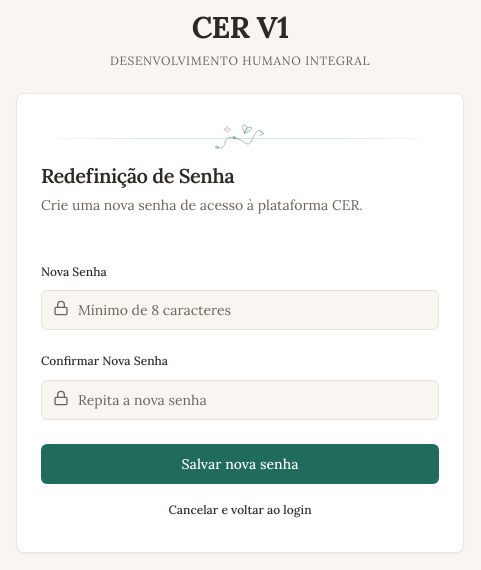
ResetPassword Page › 4. Sucesso: envia token em memória, confirma reset sem autenticar automaticamente e orienta voltar ao login
In the password field labelled "Nova Senha": x=240, y=310 [41,290,439,330], type "novaSenhaSegura999"
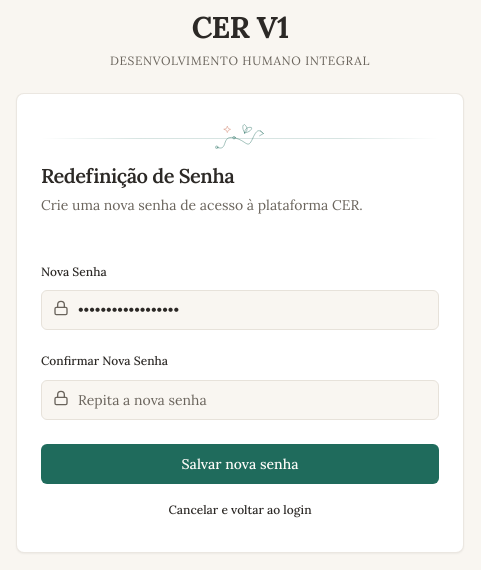
In the password field labelled "Confirmar Nova Senha": x=240, y=400 [41,380,439,420], type "novaSenhaSegura999"
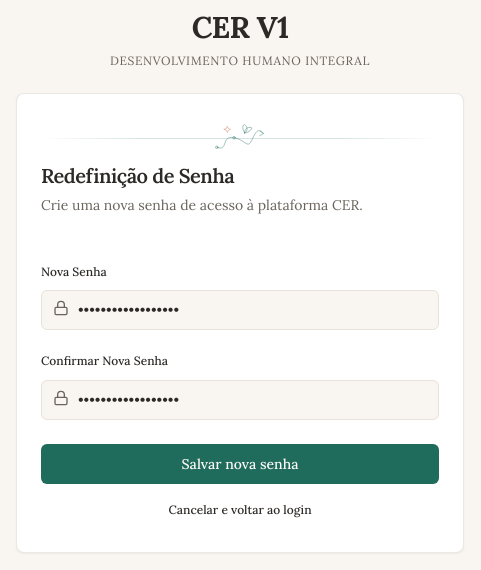
Click the button "Salvar nova senha": x=240, y=464 [41,444,439,484]
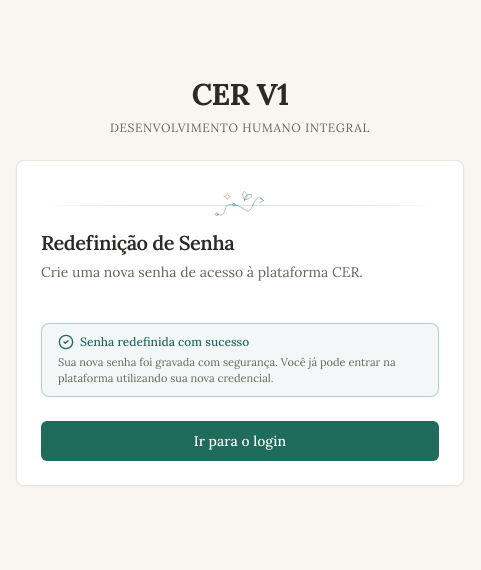
Expected: the text "Senha redefinida com sucesso" is shown, [80,334,249,350]
Expected: the link "Ir para o login" is shown, [41,421,439,461]
